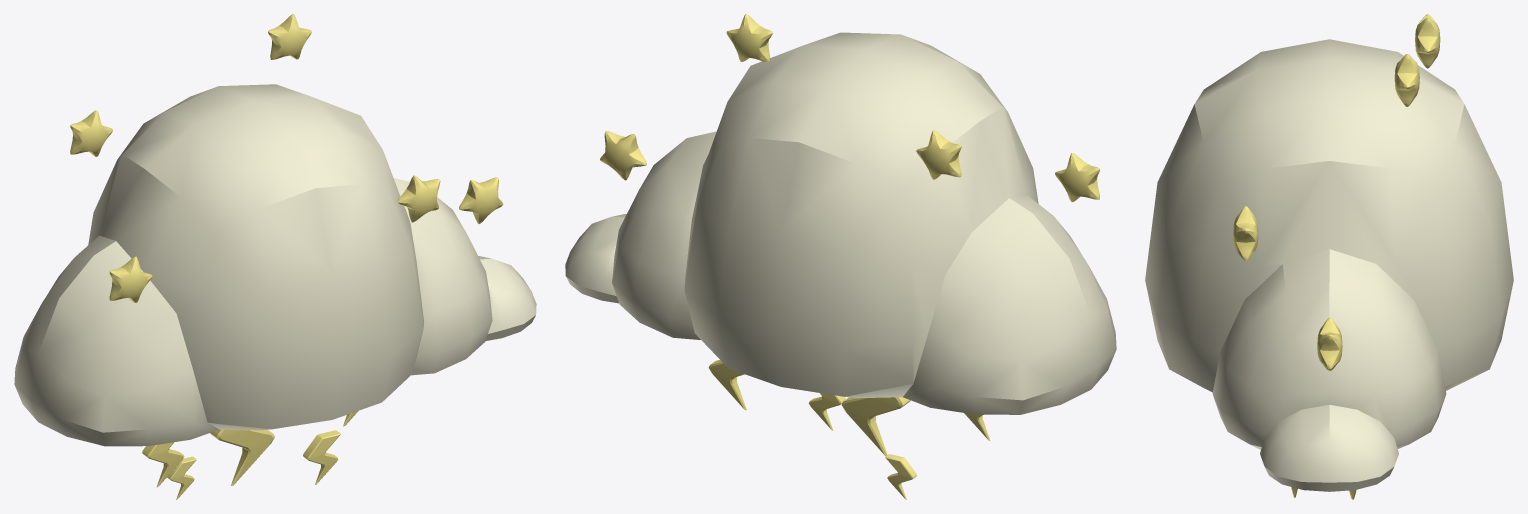
The model's file is Tree-Thunder-no3.gltf.
3 renders of one model, left to right at view 1: azimuth 30°, elevation 25°; view 2: azimuth 150°, elevation 25°; view 3: azimuth 270°, elevation 25°, orthographic. The views are drawn at different scales.
Parts seen in each view (by area): view 1: Tree-Thunder-no2; view 2: Tree-Thunder-no2; view 3: Tree-Thunder-no2.
Boxes of the visible parts, x1=… form: Tree-Thunder-no2: x1=14, y1=14, x2=536, y2=499; Tree-Thunder-no2: x1=565, y1=14, x2=1116, y2=499; Tree-Thunder-no2: x1=1145, y1=14, x2=1513, y2=499.
Size of the model in its own units: 5.85 by 4.96 by 3.49.
1 material, 1 textured.
